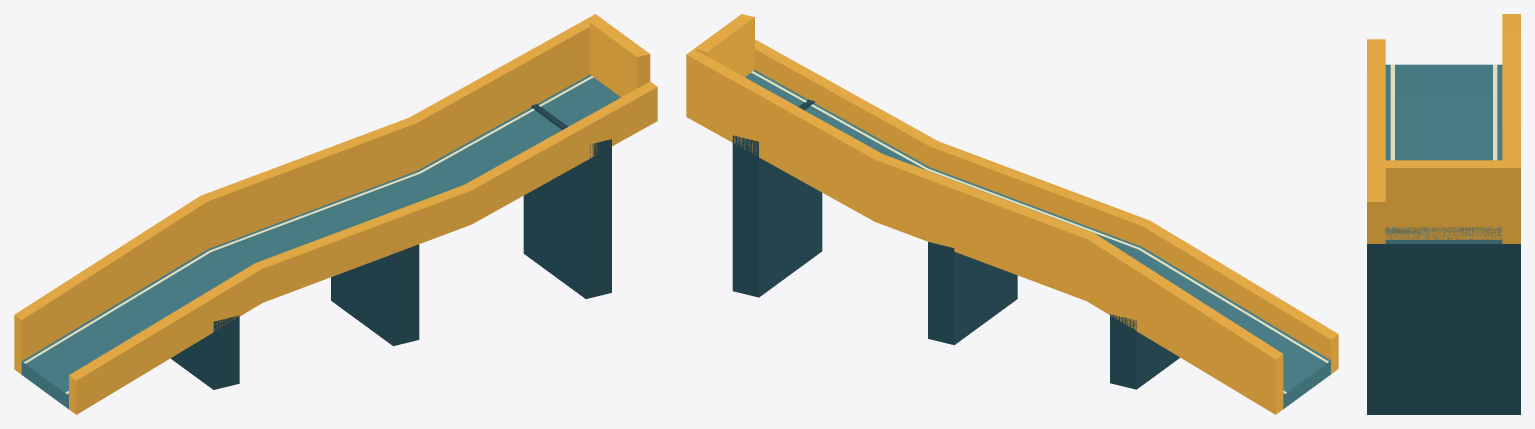
The model's file is marble-track.glb.
The picture shows the model from 3 angles, left to right: view 1: azimuth 30°, elevation 25°; view 2: azimuth 150°, elevation 25°; view 3: azimuth 270°, elevation 25°; orthographic projection. The views are drawn at different scales.
Visible parts, largest first — view 1: Rail.001, Rail.002, Frame, Rail, Rail.004, Rail.005, Track.002, Rail.003, Track, Track.001, Frame.001, Rail.006 (+3 smaller); view 2: Rail.001, Rail.002, Rail, Frame, Rail.004, Frame.001, Rail.005, Rail.003, Track.002, Frame.002, Rail.006, Track (+3 smaller); view 3: Frame, Rail.006, Track.001, Track.002, Rail, Rail.001, Rail.004, Track, Rail.003, Rail.005, Rail.002, Guide stripe.002 (+1 smaller).
Boxes of the visible parts, <box> form: Rail.001: <box>200,117,416,248</box>; Rail.002: <box>14,196,207,374</box>; Frame: <box>523,104,611,298</box>; Rail: <box>409,14,602,170</box>; Rail.004: <box>255,185,471,302</box>; Rail.005: <box>69,263,262,414</box>; Track.002: <box>21,249,239,409</box>; Rail.003: <box>464,81,657,223</box>; Track: <box>417,75,620,191</box>; Track.001: <box>208,171,445,272</box>; Frame.001: <box>331,244,419,346</box>; Rail.006: <box>590,19,650,97</box>; Rail.001: <box>875,154,1093,301</box>; Rail.002: <box>1087,233,1283,414</box>; Rail: <box>686,49,881,221</box>; Frame: <box>732,99,822,297</box>; Rail.004: <box>930,141,1149,246</box>; Frame.001: <box>928,242,1017,345</box>; Rail.005: <box>1142,220,1338,373</box>; Rail.003: <box>755,39,937,166</box>; Track.002: <box>1130,247,1330,408</box>; Frame.002: <box>1110,314,1179,389</box>; Rail.006: <box>694,14,754,76</box>; Track: <box>745,70,929,170</box>; Frame: <box>1367,244,1520,414</box>; Rail.006: <box>1385,160,1502,239</box>; Track.001: <box>1385,94,1502,160</box>; Track.002: <box>1385,64,1502,94</box>; Rail: <box>1502,127,1520,243</box>; Rail.001: <box>1502,35,1520,127</box>; Rail.004: <box>1367,69,1385,161</box>; Track: <box>1385,227,1502,243</box>; Rail.003: <box>1367,161,1385,243</box>; Rail.005: <box>1367,39,1385,69</box>; Rail.002: <box>1502,14,1520,35</box>; Guide stripe.002: <box>1493,94,1497,160</box>.
Bounding box in the file's own units: 178 × 65 × 33.
